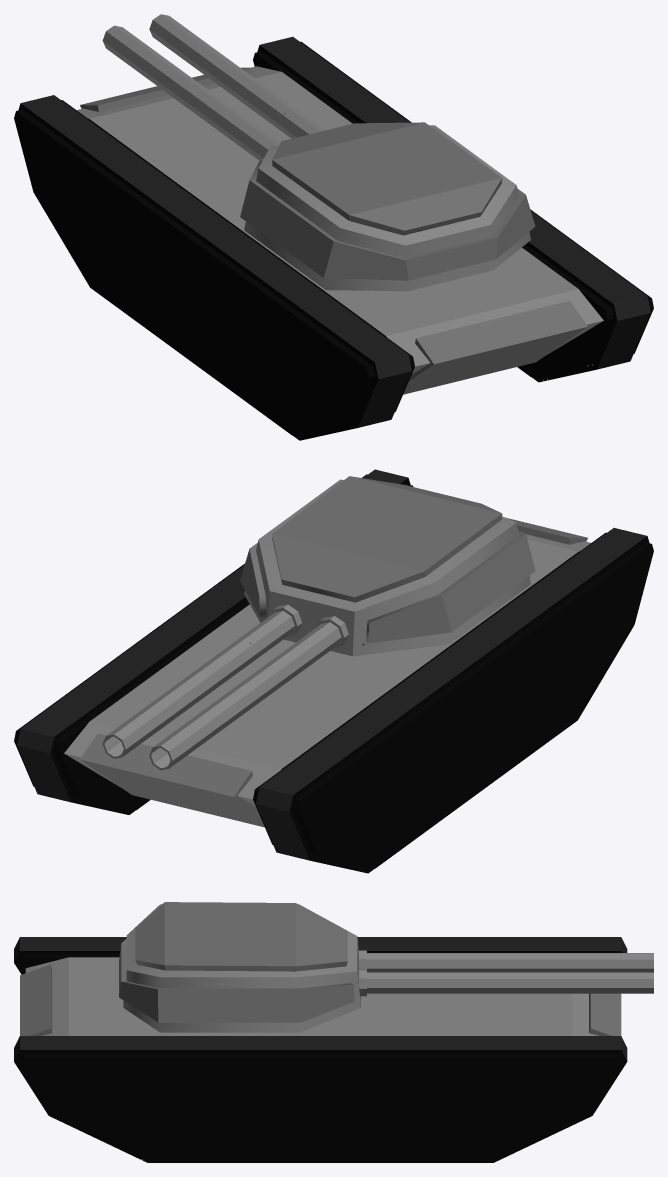
File: EnemyBrute.fbx
3 views of the same model, one above another, from view 1: azimuth 30°, elevation 25°; view 2: azimuth 150°, elevation 25°; view 3: azimuth 270°, elevation 25° (orthographic). The views are drawn at different scales.
Visible parts, largest first — view 1: Cube.003; view 2: Cube.003; view 3: Cube.003.
Part boxes in pixels (left/top/right/bottom): Cube.003: left=14, top=14, right=653, bottom=440; Cube.003: left=14, top=469, right=653, bottom=873; Cube.003: left=14, top=902, right=653, bottom=1162.
Size of the model in its own units: 244 by 167 by 559.
1 material, 1 textured.
